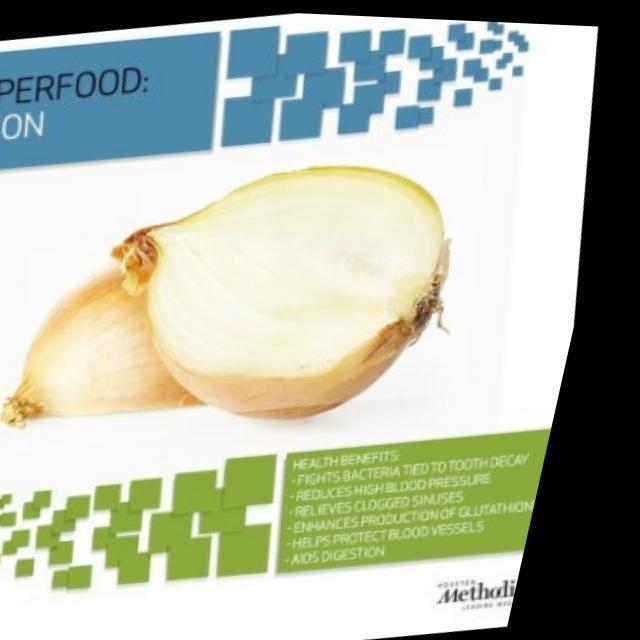Onion: (107, 125, 526, 432), (7, 228, 240, 458)
